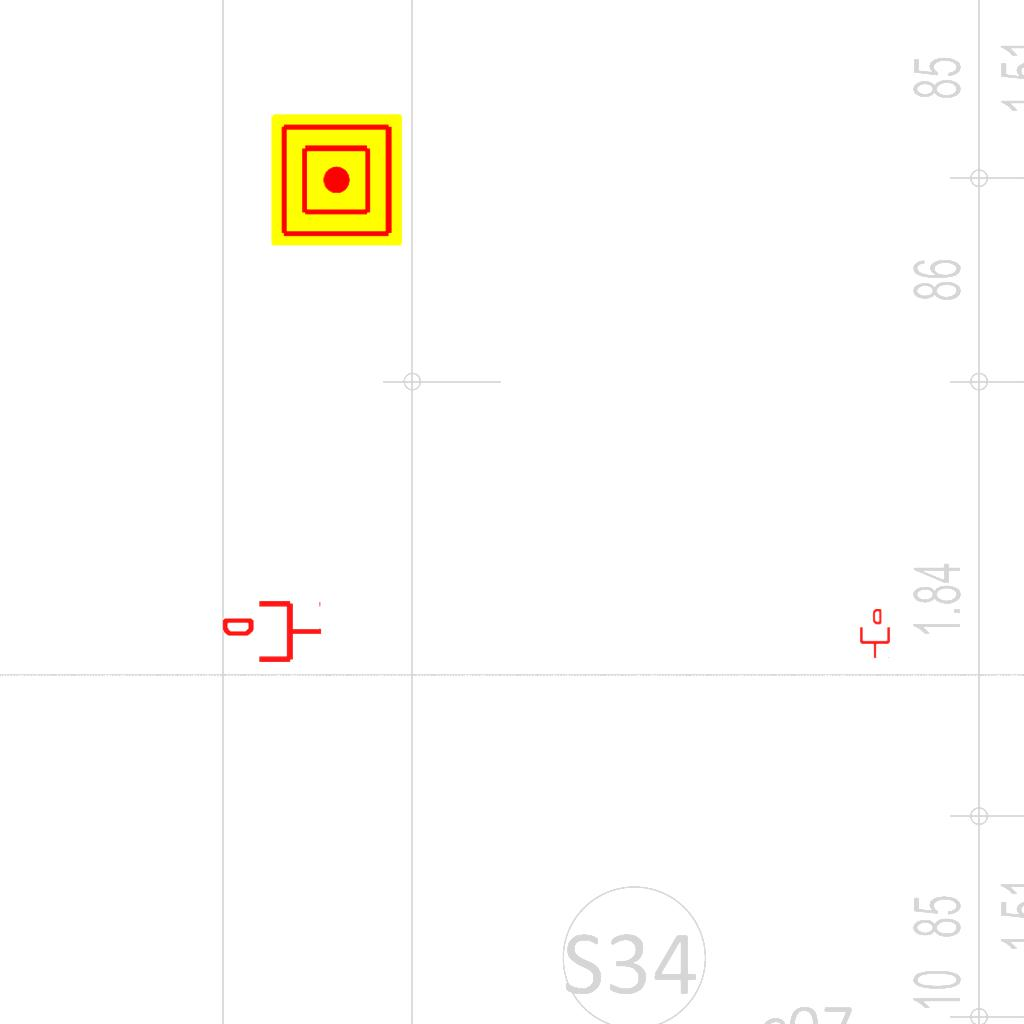Datenanschluss_einfach: (223, 597, 323, 666), (858, 609, 892, 659)
NAM-Nichtautomatischer_Melder: (271, 114, 403, 246)
